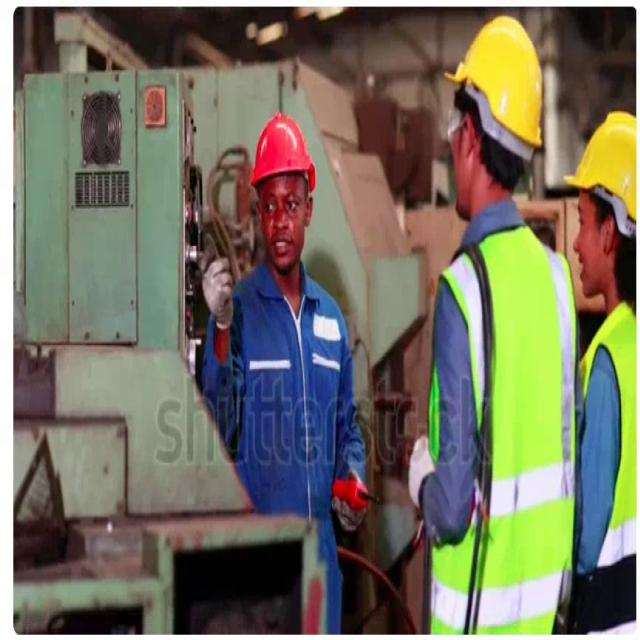gloved: (198, 232, 234, 330), (331, 469, 369, 532), (407, 434, 435, 509)
